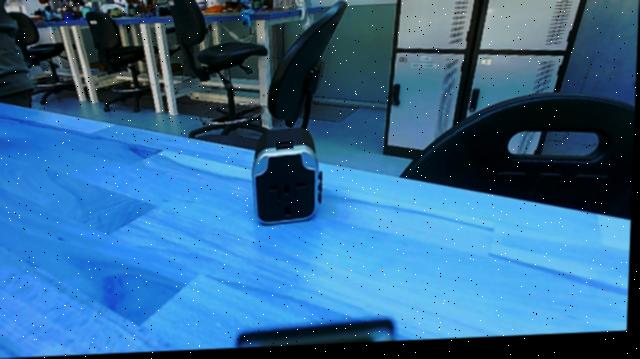adapter: (247, 126, 330, 231)
